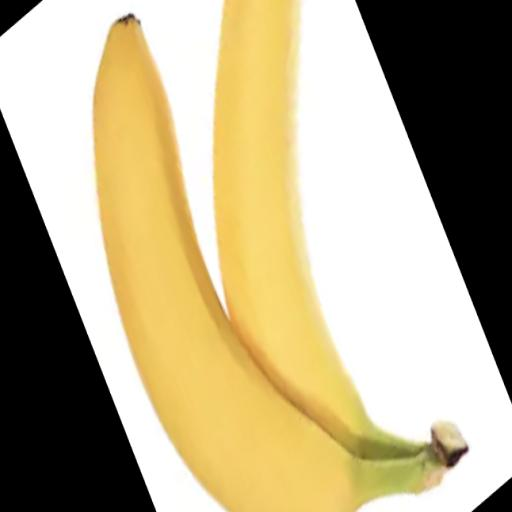banana-ripe: (73, 0, 478, 512)
